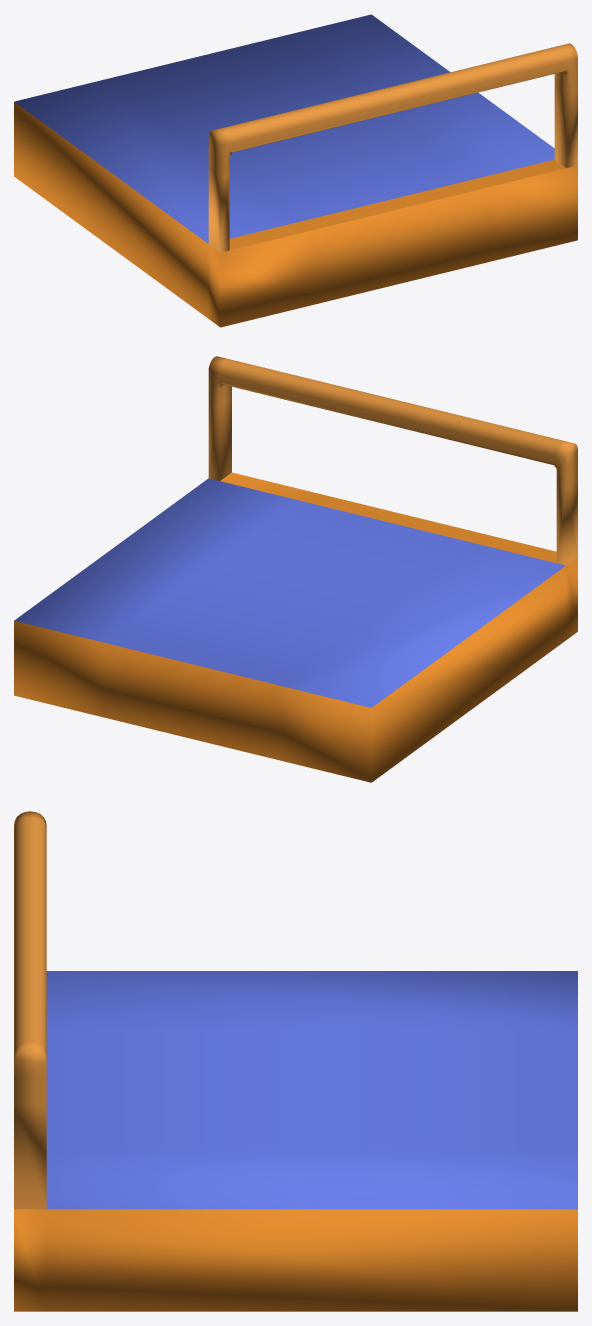
The model's file is railing_floor_0.glb.
The picture shows the model from 3 angles, top to bottom: view 1: azimuth 30°, elevation 25°; view 2: azimuth 150°, elevation 25°; view 3: azimuth 270°, elevation 25°; orthographic projection. The views are drawn at different scales.
Parts seen in each view (by area): view 1: Cube.007; view 2: Cube.007; view 3: Cube.007.
Part boxes in pixels (x1=…): Cube.007: x1=14, y1=14, x2=577, y2=327; Cube.007: x1=14, y1=356, x2=577, y2=782; Cube.007: x1=14, y1=811, x2=577, y2=1311.
Size of the model in its own units: 2 by 1.02 by 2.
